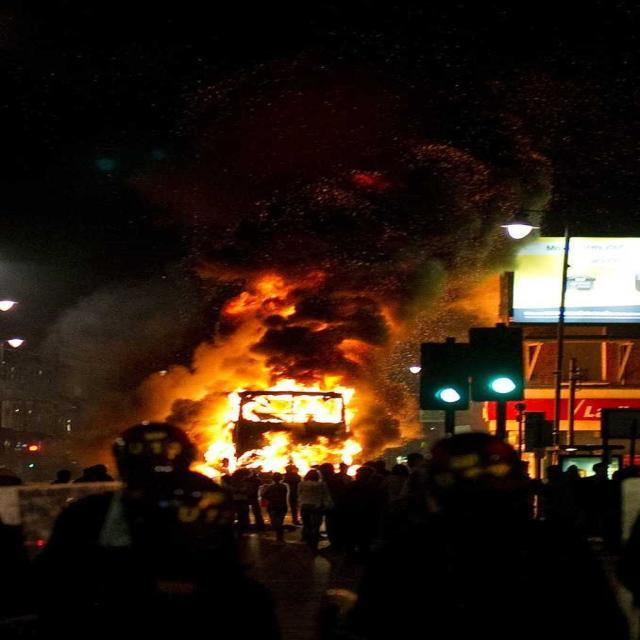Fire: (264, 397, 338, 420)
Smoke: (168, 25, 487, 175)
